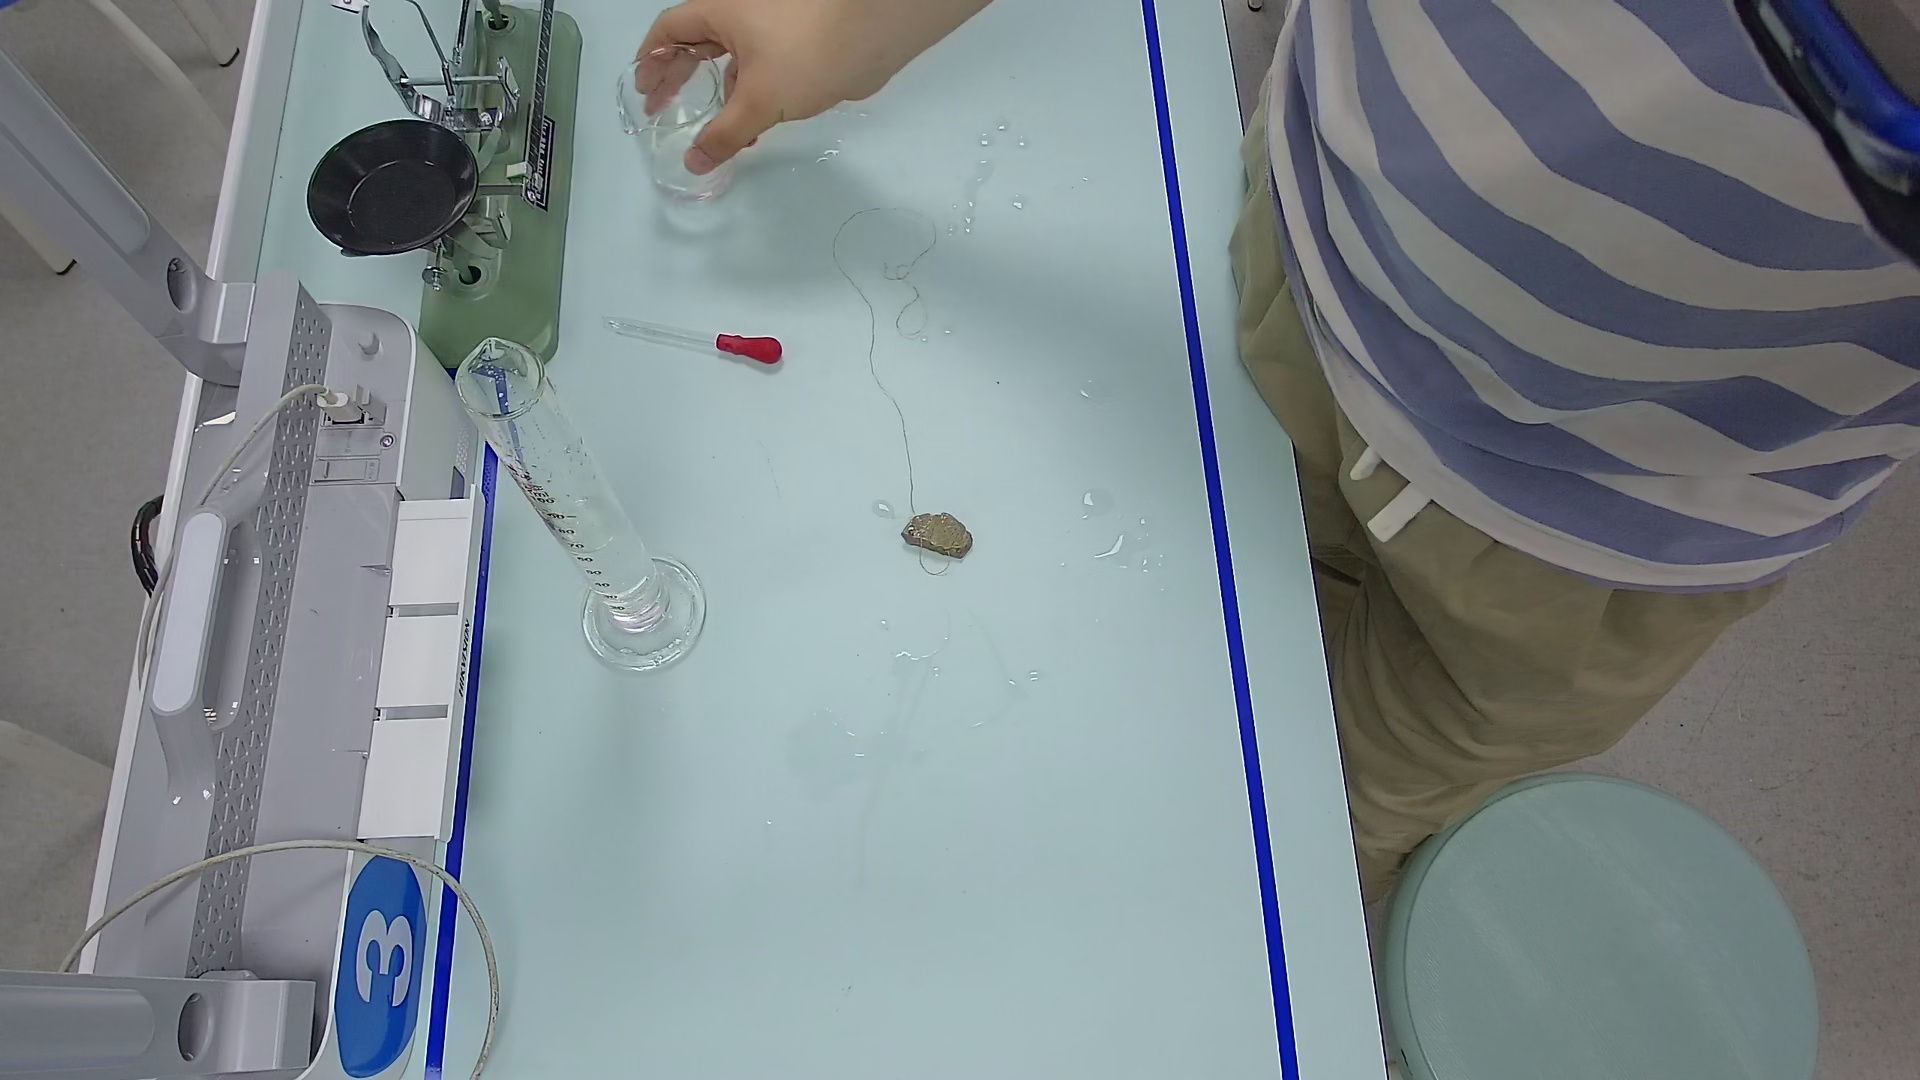ao: (555, 498, 626, 553)
bei: (616, 46, 744, 211)
diguan: (580, 309, 778, 375)
diguantou: (695, 327, 775, 375)
hand: (637, 1, 869, 152)
liangdi: (578, 560, 723, 678)
liangtong: (444, 338, 713, 678)
shi: (901, 501, 985, 563)
tuo: (305, 116, 477, 260)
